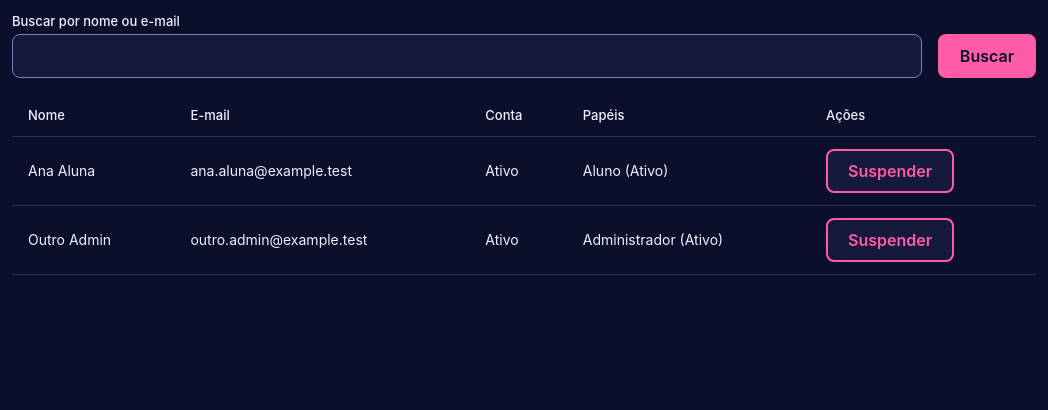
Test: UsersAdmin (FR-056, FR-075) › suspende e mostra LAST_ADMIN_PROTECTED no resumo
This screenshot has width=1048, height=410.
Click the button with aria-label "Suspender conta de Ana Aluna" at (890, 171), box top-left (826, 149), bottom-right (954, 193)
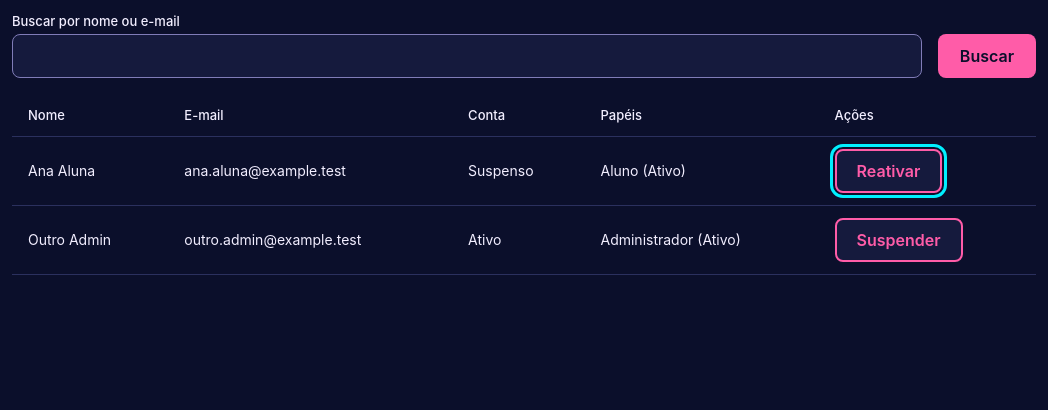
Now the button with aria-label "Reativar conta de Ana Aluna" is shown, box top-left (835, 149), bottom-right (942, 193)
Click the button with aria-label "Suspender conta de Outro Admin" at (899, 240), box top-left (835, 218), bottom-right (963, 262)
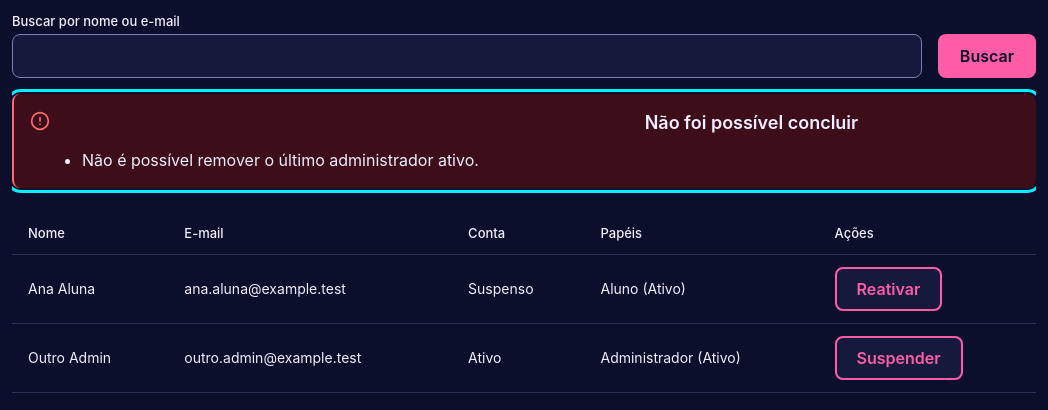
Now the element that starts with "Não foi possível concluir" shows "Não é possível remover o último administrador ativo.", box top-left (82, 150), bottom-right (479, 170)
